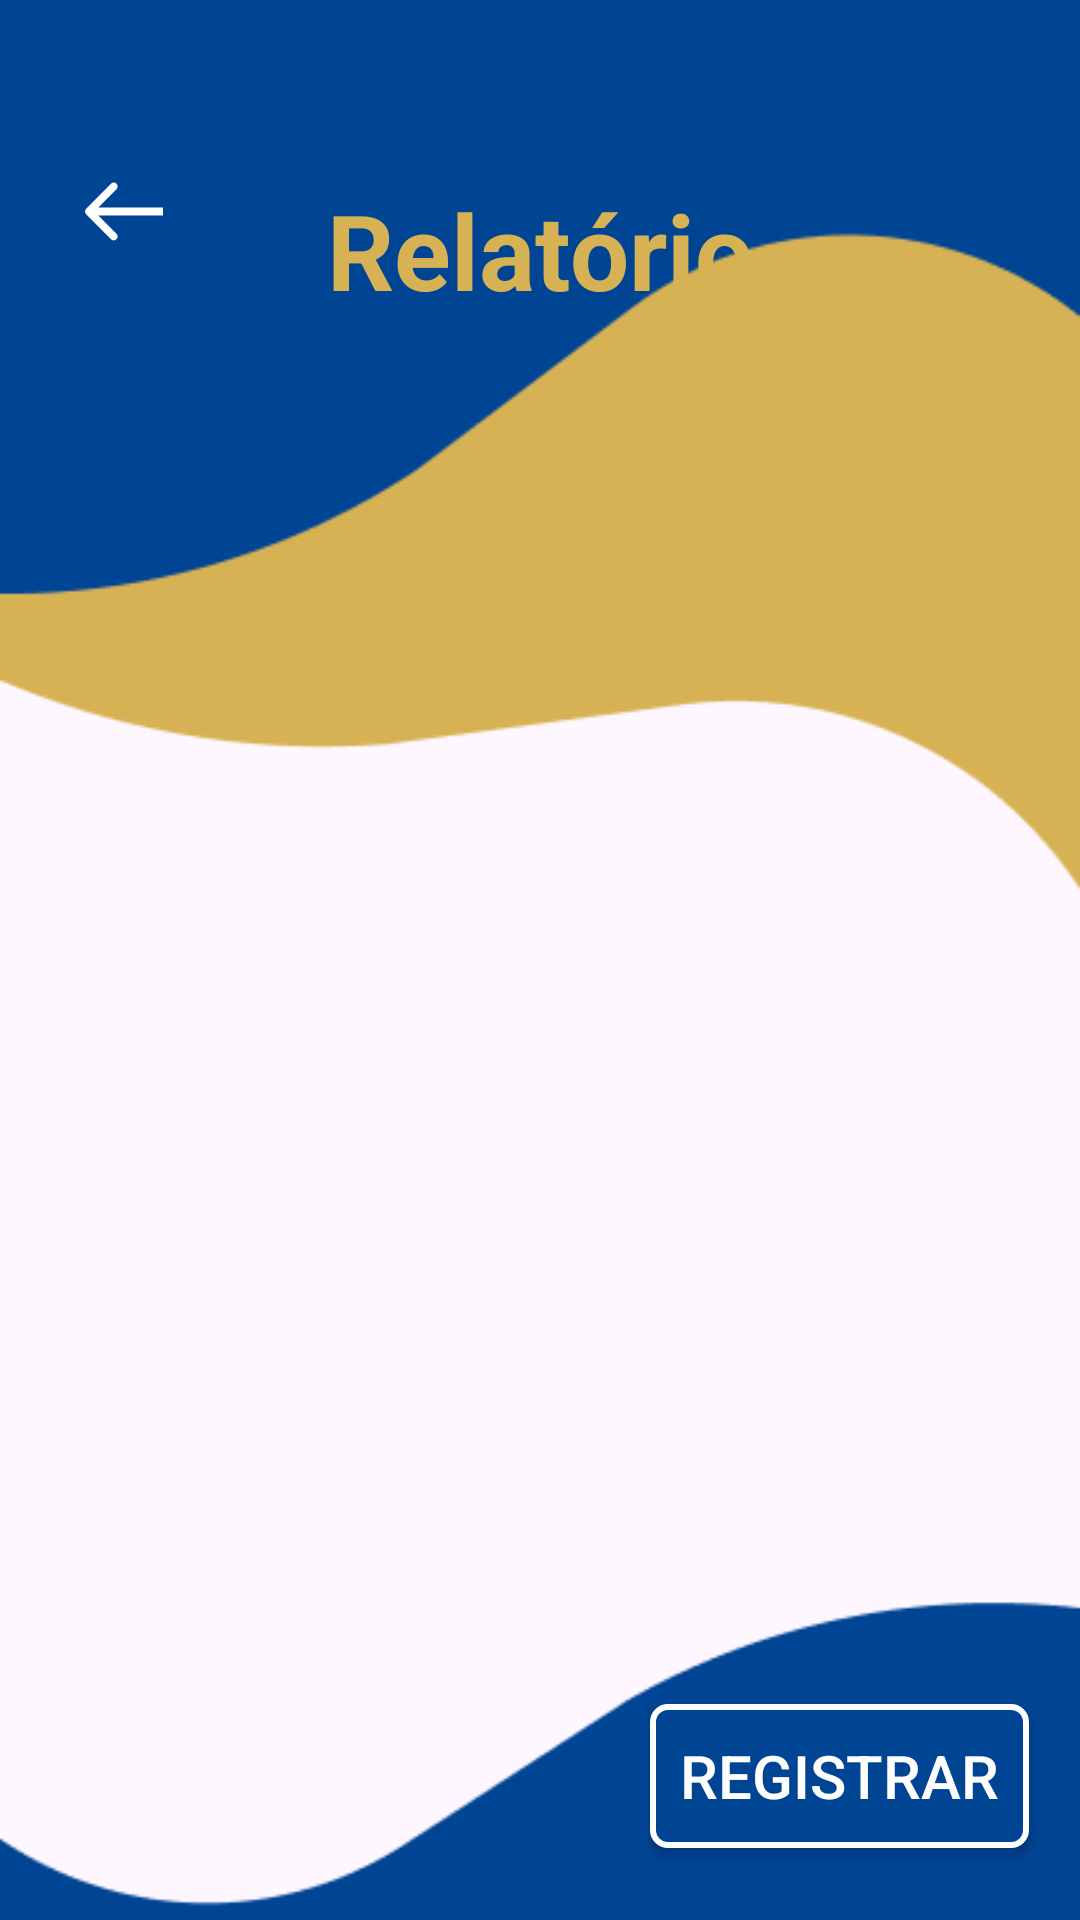

Icons on this 1080px x 1920px Android screen, each with its box as bbox=(x1, y1, x2, y2):
arrow: bbox=(85, 182, 163, 241)
